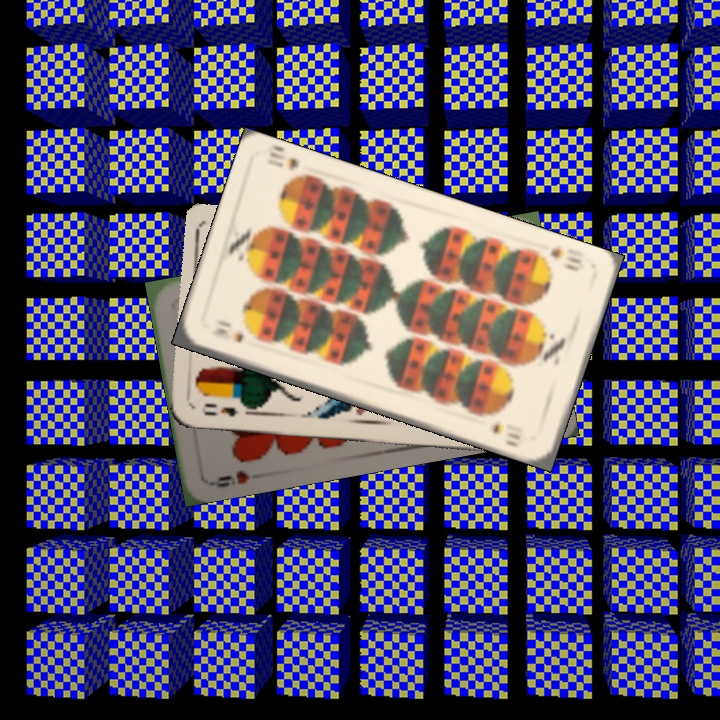EO: (200, 398, 253, 420)
H9: (206, 466, 252, 490)
S10: (546, 242, 587, 274), (208, 323, 247, 345)
